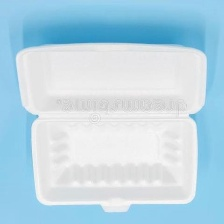foam_box: (12, 36, 212, 217)
